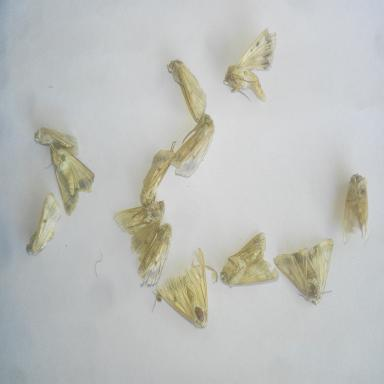abw: (155, 243, 214, 334), (271, 233, 339, 306), (221, 24, 278, 104), (112, 192, 170, 266), (43, 140, 96, 218), (216, 229, 282, 288), (163, 53, 211, 130), (169, 111, 215, 184), (133, 218, 175, 290), (23, 190, 64, 259), (136, 147, 177, 211), (339, 169, 372, 248), (30, 122, 84, 161)
